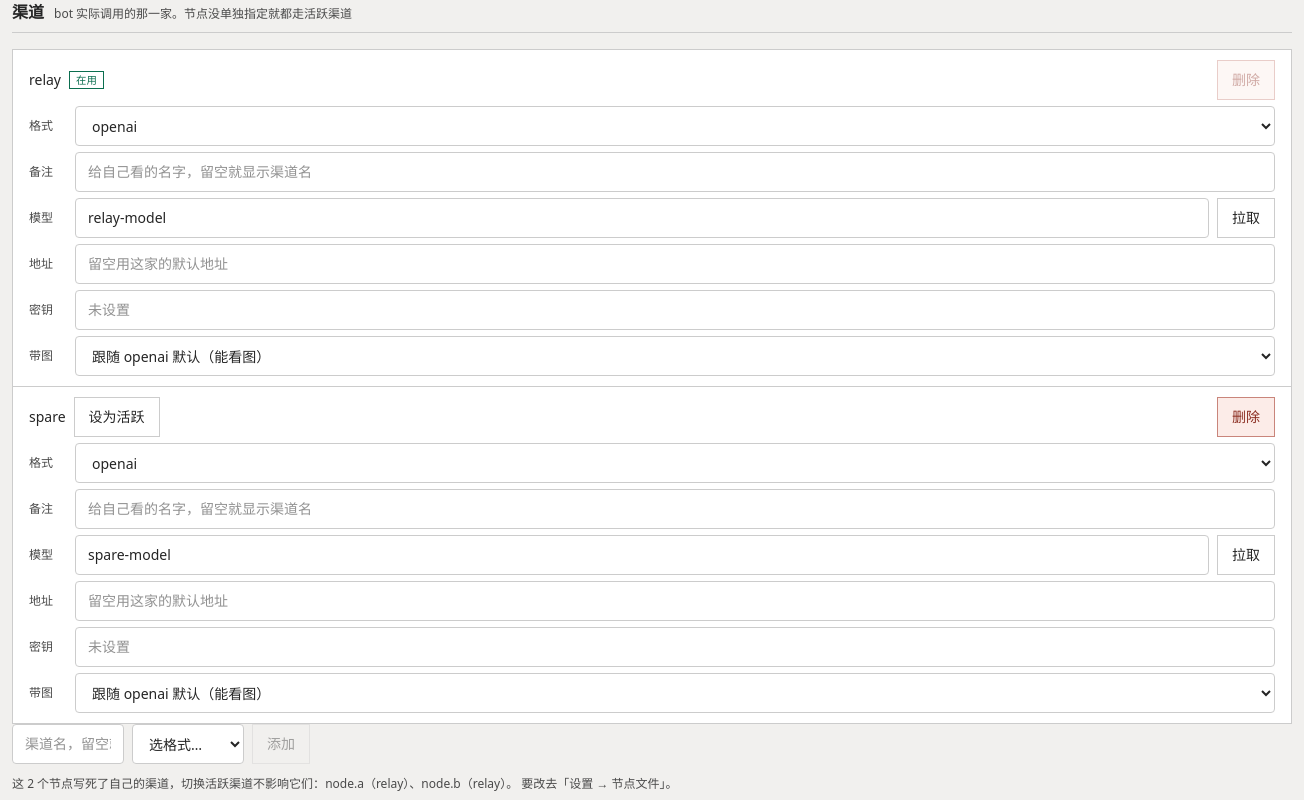
渠道响应与未保存配置 › 切换活跃渠道的响应不会覆盖其他渠道的本地草稿
Replace the text in the field named "relay 模型" with "unsaved-model": (642, 218) [75,198,1209,238]
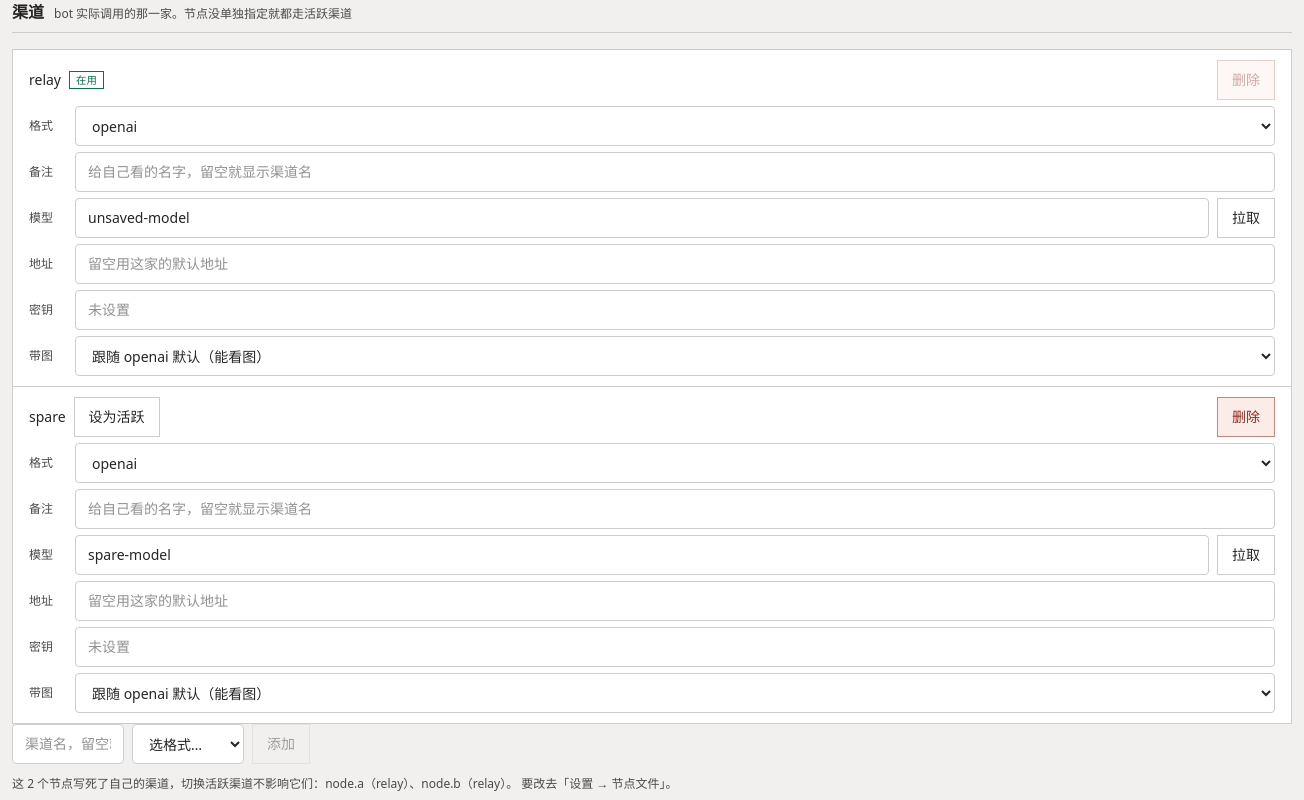
Click the button "设为活跃": (117, 417) [74,397,160,437]
(page scrolled)
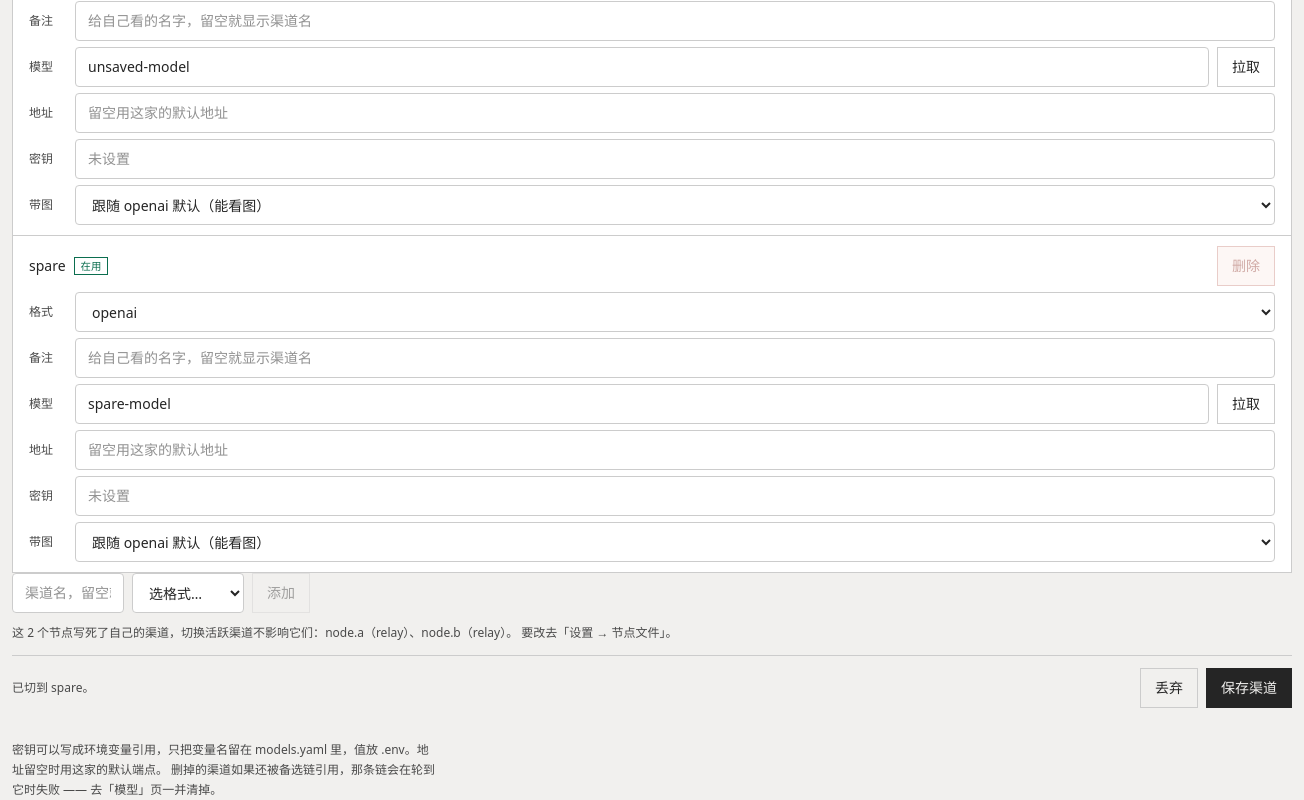
Expected: the button "保存渠道" is enabled, [1206,668,1292,708]
Expected: the text "已切到 spare。" is shown, [12,680,94,696]
